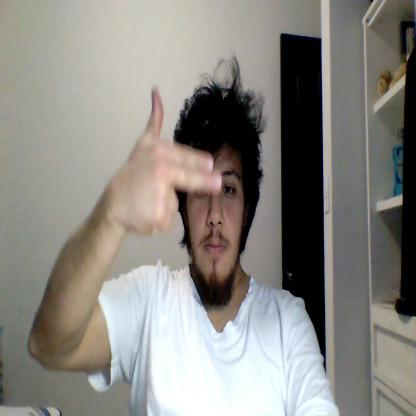H: (122, 87, 221, 234)
